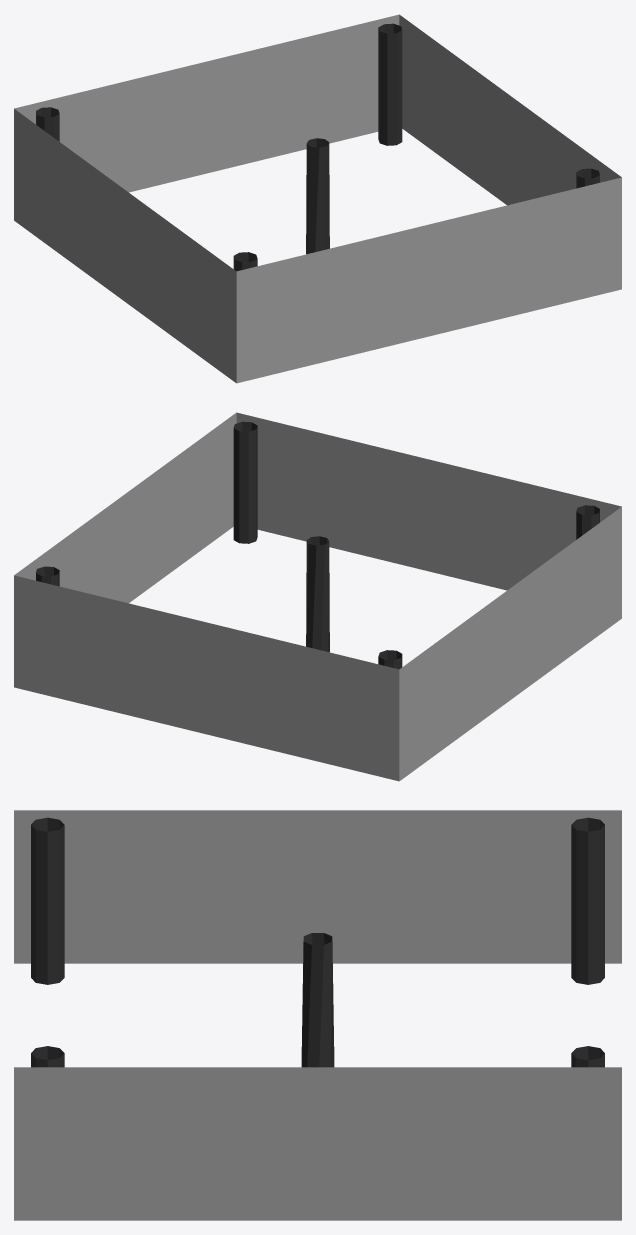
File: elevatorShaft1_mid.fbx
3 renders of one model, top to bottom at view 1: azimuth 30°, elevation 25°; view 2: azimuth 150°, elevation 25°; view 3: azimuth 270°, elevation 25°, orthographic. The views are drawn at different scales.
Parts seen in each view (by area): view 1: Shaft; view 2: Shaft; view 3: Shaft.
Boxes of the visible parts, x1,y1,x2,y2 form: Shaft: (14, 14, 621, 383); Shaft: (14, 412, 621, 781); Shaft: (14, 810, 621, 1220).
Size of the model in its own units: 360 by 100 by 360.
